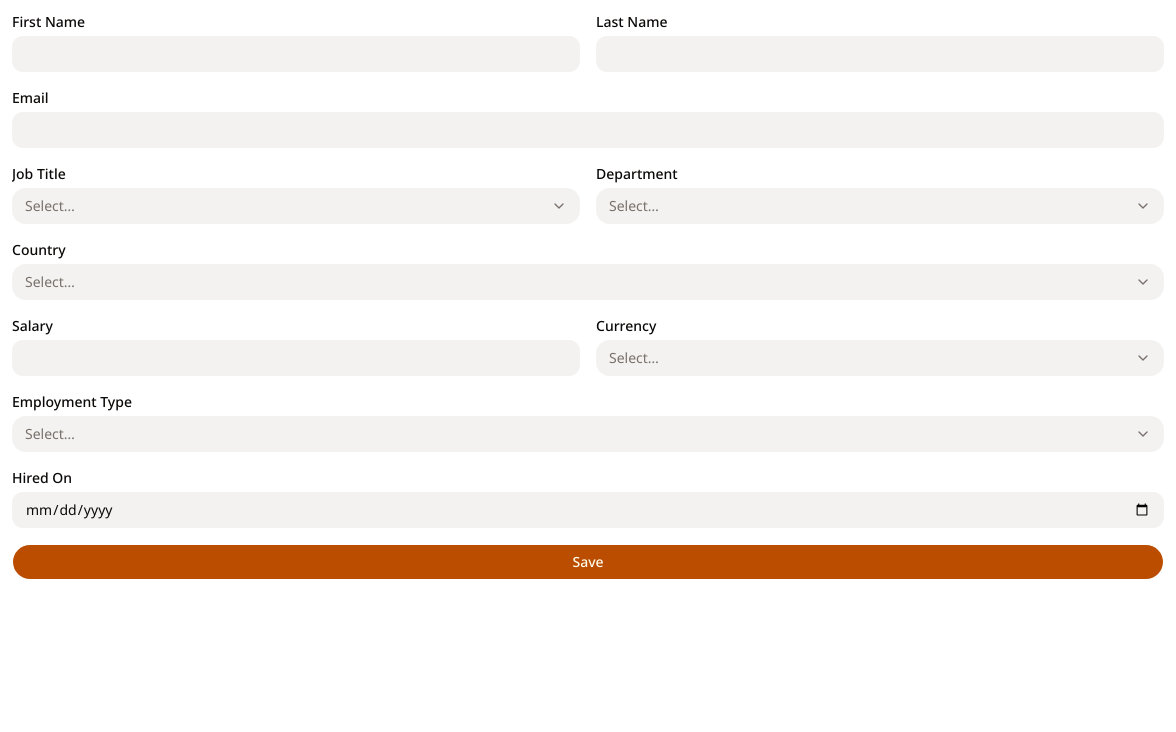
Test: EmployeeForm › populates the country dropdown with all country options
Click the dropdown named "country". click: (50, 282)
box: [12,264,1164,300]
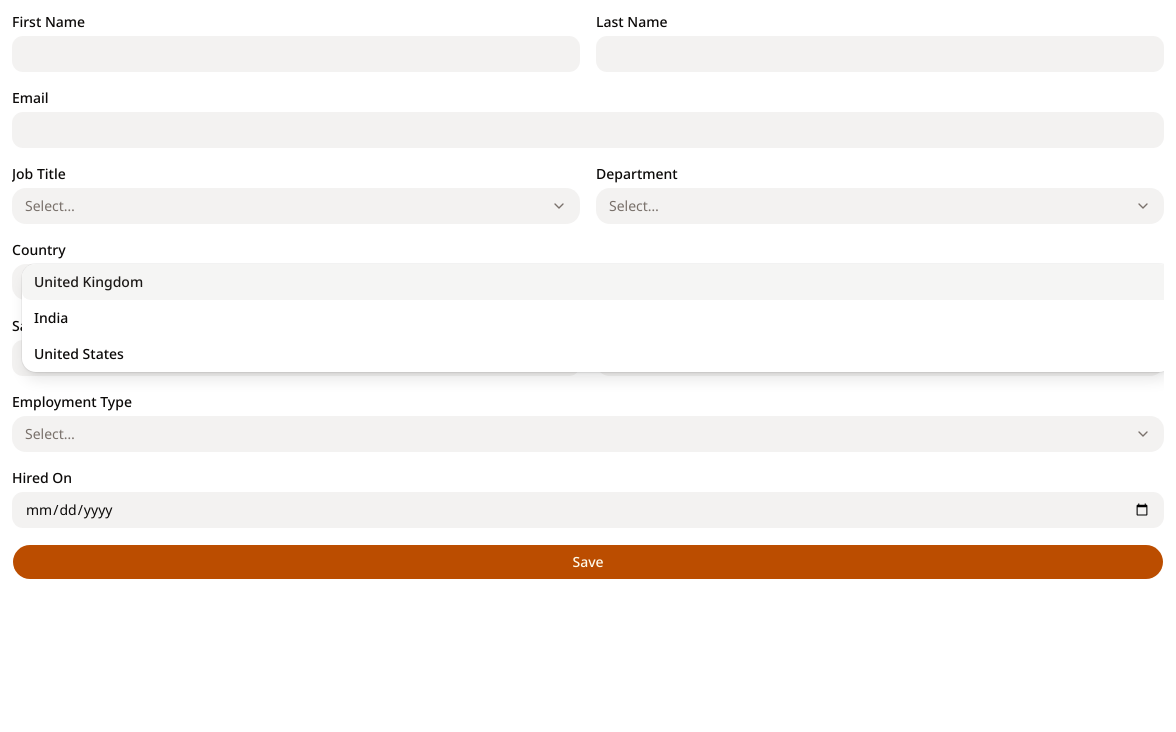
Now the option "United States" is shown, box [34,344,124,363]
Now the option "India" is shown, box [34,308,68,327]
